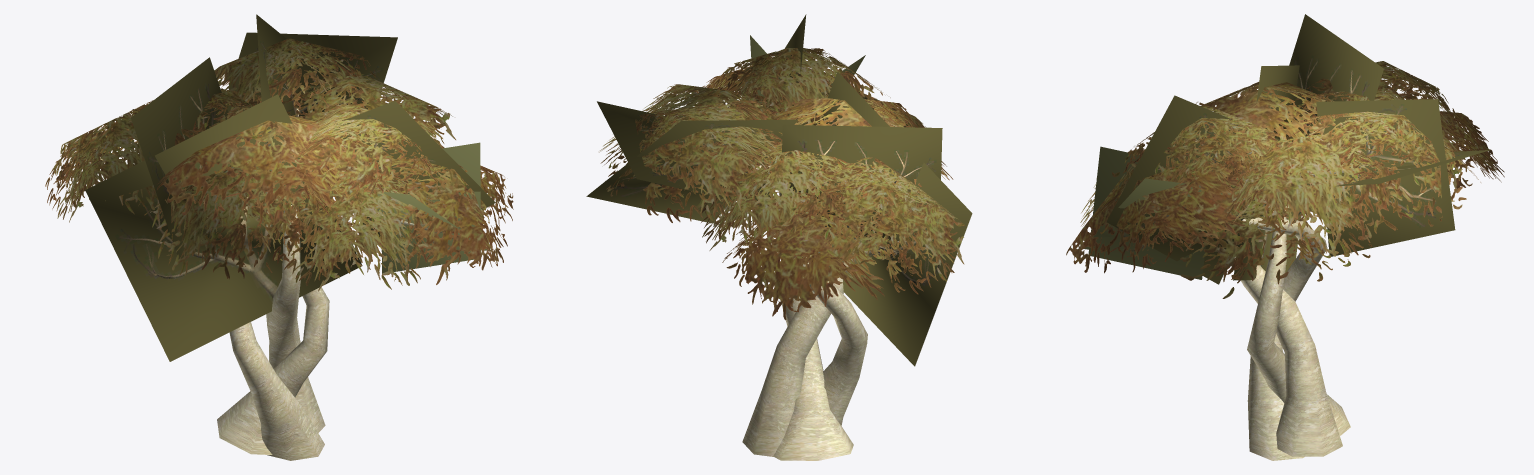
The model's file is decd_windswept_a1_l0.fbx.
The picture shows the model from 3 angles, left to right: view 1: azimuth 30°, elevation 25°; view 2: azimuth 150°, elevation 25°; view 3: azimuth 270°, elevation 25°; orthographic projection.
Visible parts, largest first — view 1: mesh_node; view 2: mesh_node; view 3: mesh_node.
Boxes of the visible parts, x1=… form: mesh_node: x1=45, y1=14, x2=513, y2=460; mesh_node: x1=586, y1=14, x2=972, y2=460; mesh_node: x1=1066, y1=14, x2=1504, y2=460.
Bounding box in the file's own units: 4.86 × 4.2 × 4.88.
